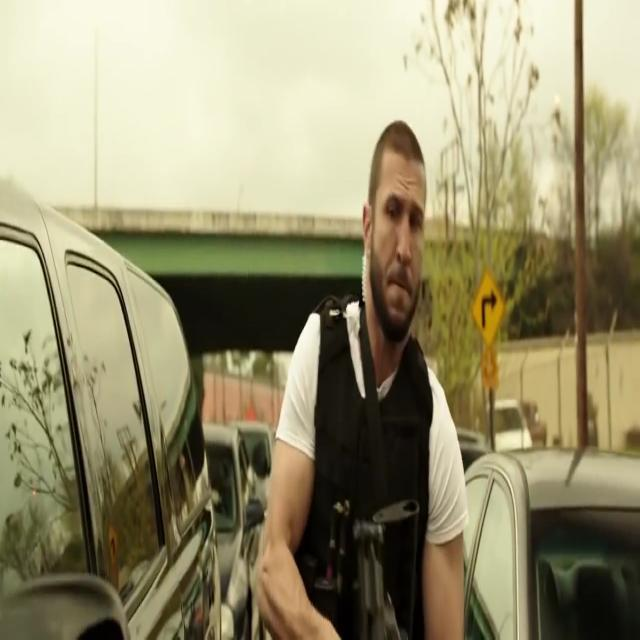Weapon: (294, 428, 425, 640)
